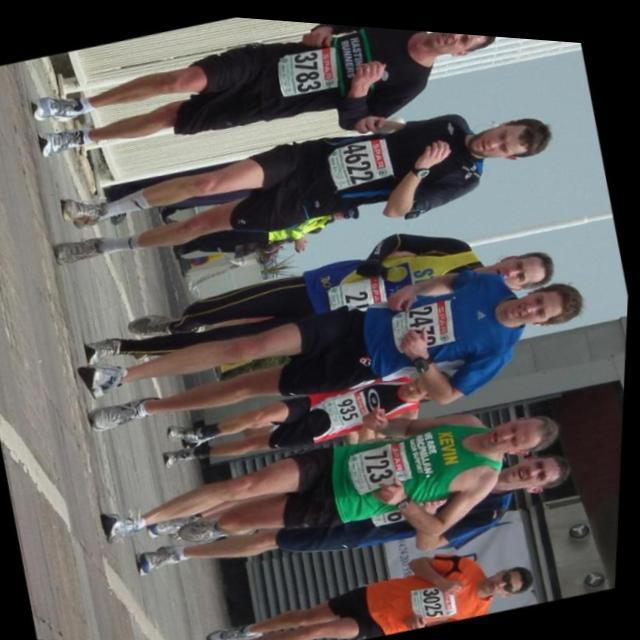dorsal: (266, 32, 355, 108), (386, 286, 472, 364), (319, 122, 404, 200), (343, 427, 428, 503), (406, 572, 473, 627), (326, 382, 376, 433)
